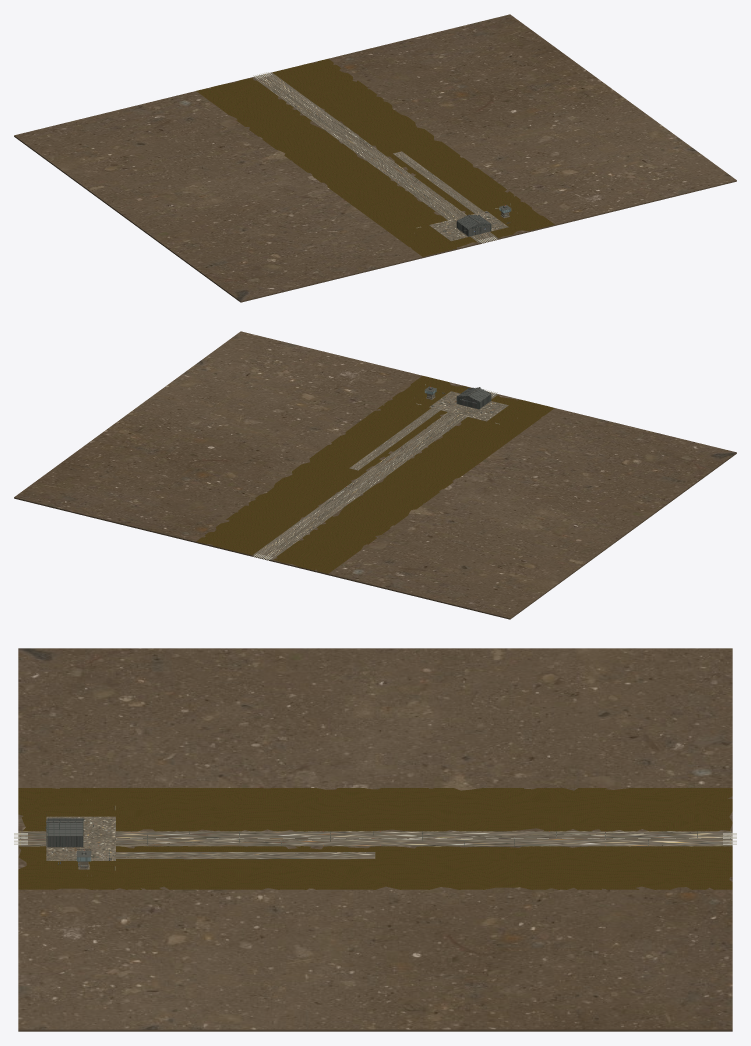
The model's file is Bloedjungle_Airfield_HQ_2_1_LOD1.glb.
3 views of the same model, one above another, from view 1: azimuth 30°, elevation 25°; view 2: azimuth 150°, elevation 25°; view 3: azimuth 270°, elevation 25° (orthographic). The views are drawn at different scales.
Parts seen in each view (by area): view 1: Runway and Apron, Grass Ver ges and Terrain; view 2: Runway and Apron, Grass Ver ges and Terrain, Hangar HQ; view 3: Runway and Apron, Grass Ver ges and Terrain, Hangar HQ.
Part boxes in pixels (left/top/right/bottom): Runway and Apron: left=14, top=14, right=736, bottom=302; Grass Ver ges and Terrain: left=196, top=58, right=554, bottom=256; Runway and Apron: left=14, top=331, right=736, bottom=619; Grass Ver ges and Terrain: left=196, top=376, right=554, bottom=573; Hangar HQ: left=456, top=386, right=496, bottom=409; Runway and Apron: left=14, top=648, right=736, bottom=1031; Grass Ver ges and Terrain: left=18, top=788, right=732, bottom=889; Hangar HQ: left=45, top=814, right=84, bottom=847.
Bounding box in the file's own units: 960 × 25.33 × 769.
17 materials, 7 textured.
